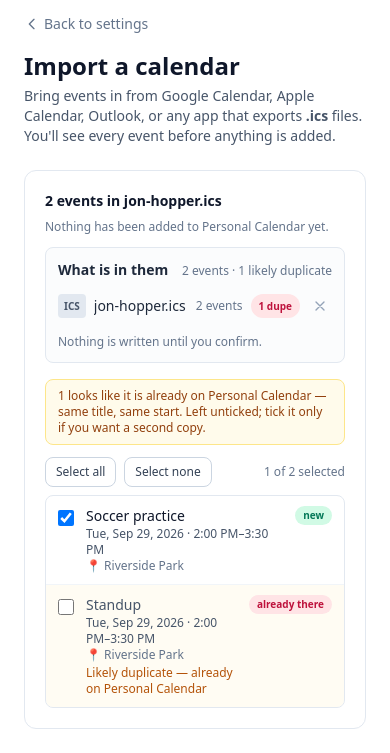
Test: import preview screen › Select all ticks the duplicates too, and Select none clears everything
The width and height of the screenshot is (390, 753).
What coordinates should you click on to do the following:
click the button "Select all"
I would click on:
 (81, 472)
Its box is [45,457,116,487].
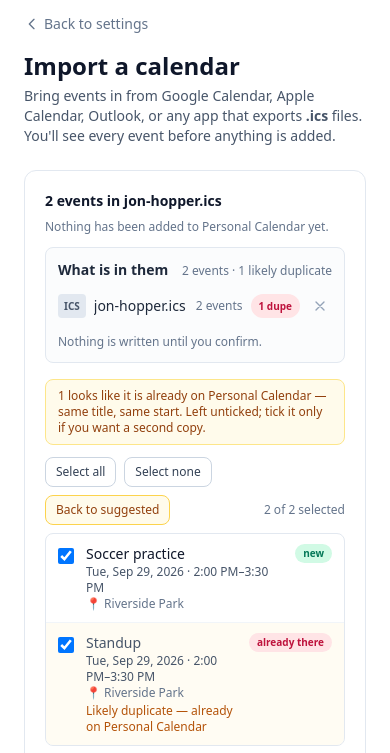
Result: the checkbox named "Import Standup" is checked at [58,637,74,653]
What coordinates should you click on to do the following:
click the button "Select none"
I would click on:
 (168, 472)
Its box is [124,457,212,487].
(page scrolled)
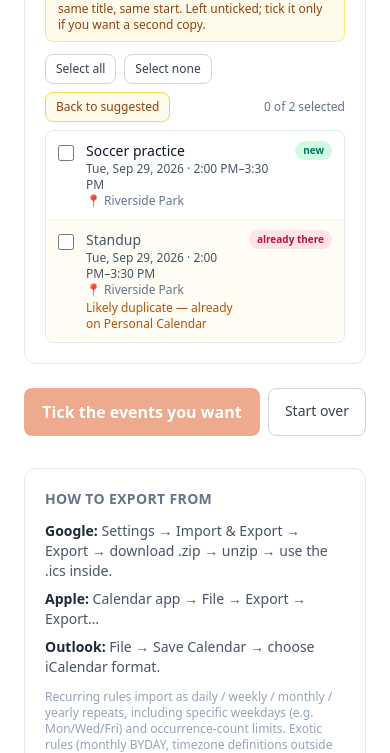
Result: the checkbox named "Import Soccer practice" is not checked at [58,145,74,161]
Result: the button "Tick the events you want" is disabled at [24,388,260,436]
